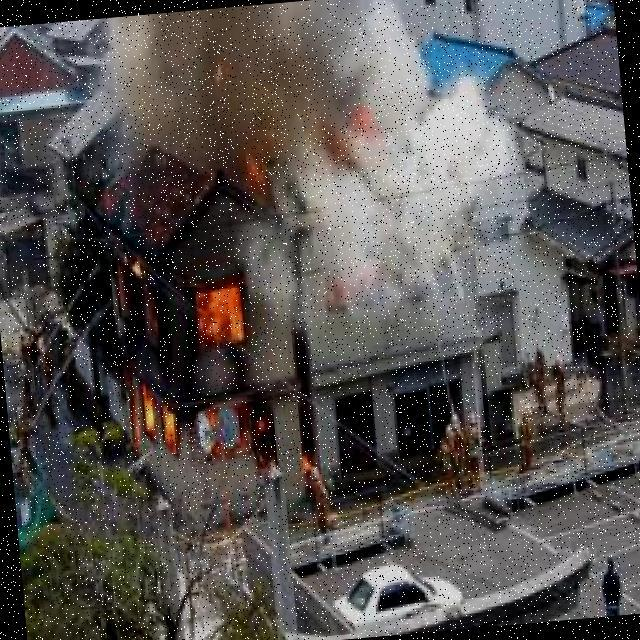Fire: (107, 225, 328, 521)
